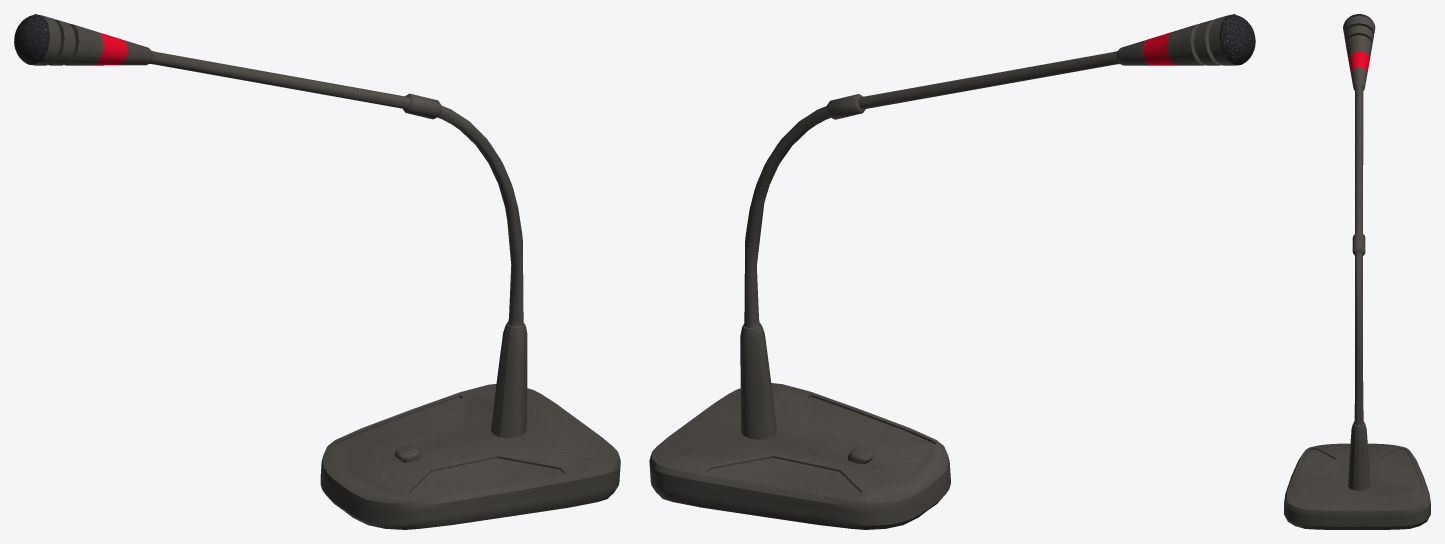
Rendered from mic.fbx.
The picture shows the model from 3 angles, left to right: view 1: azimuth 30°, elevation 25°; view 2: azimuth 150°, elevation 25°; view 3: azimuth 270°, elevation 25°; orthographic projection. The views are drawn at different scales.
Visible parts, largest first — view 1: Mic.001_Baked, Mic.002_Baked, Mic.003_Baked; view 2: Mic.001_Baked, Mic.002_Baked, Mic.003_Baked; view 3: Mic.001_Baked, Mic.002_Baked.
Boxes of the visible parts, x1,y1,x2,y2 form: Mic.001_Baked: (320, 384, 620, 529); Mic.002_Baked: (33, 14, 527, 438); Mic.003_Baked: (14, 14, 49, 64); Mic.001_Baked: (649, 383, 950, 529); Mic.002_Baked: (740, 14, 1236, 439); Mic.003_Baked: (1219, 14, 1255, 65); Mic.001_Baked: (1284, 443, 1430, 529); Mic.002_Baked: (1343, 15, 1375, 490).
Bounding box in the file's own units: 169 × 163 × 61.55.
3 materials, 3 textured.
